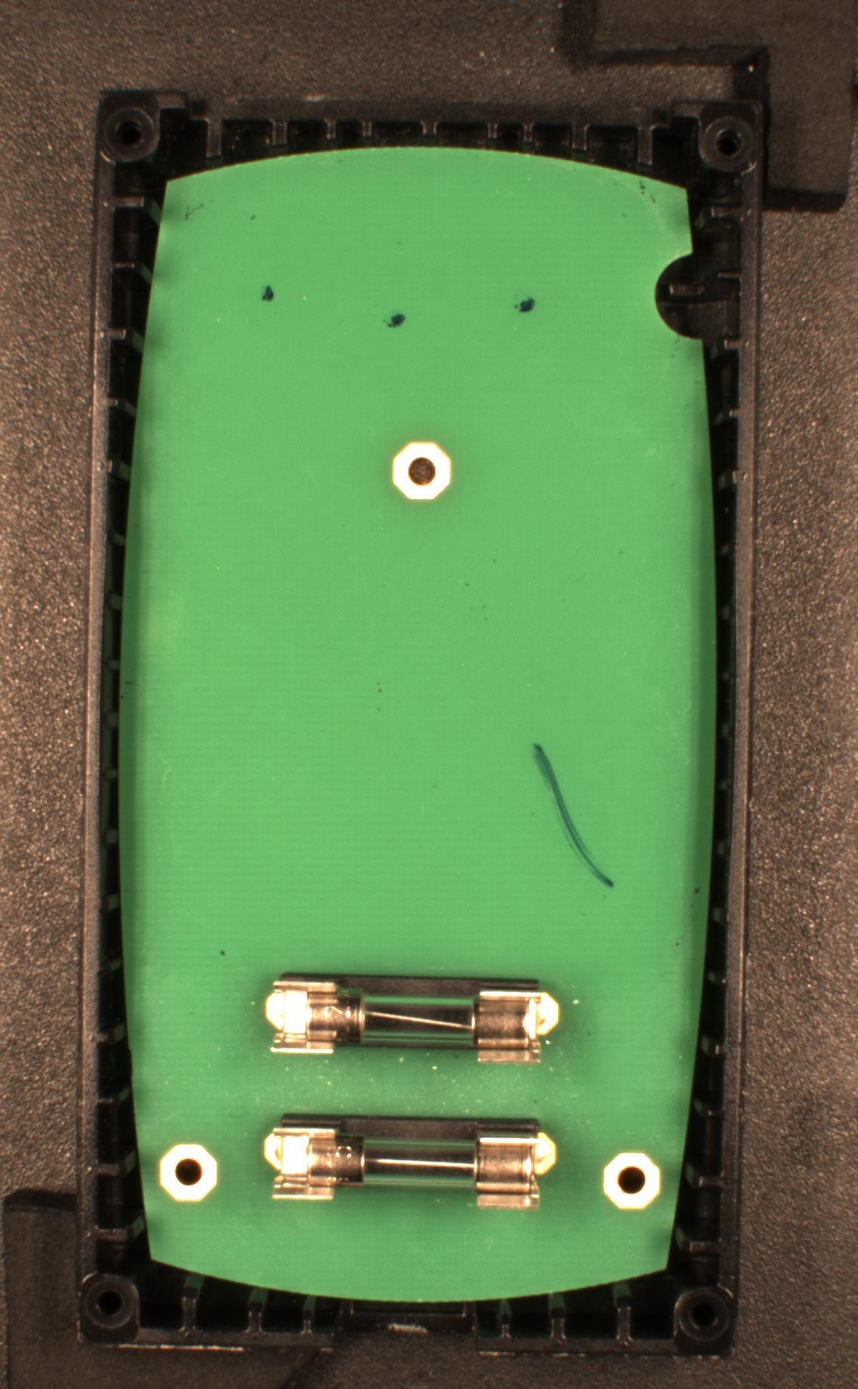Linijsko Ostecene: (530, 743, 619, 891)
Tockasto Ostecenje: (384, 311, 407, 331), (514, 296, 537, 315), (260, 284, 277, 302)
